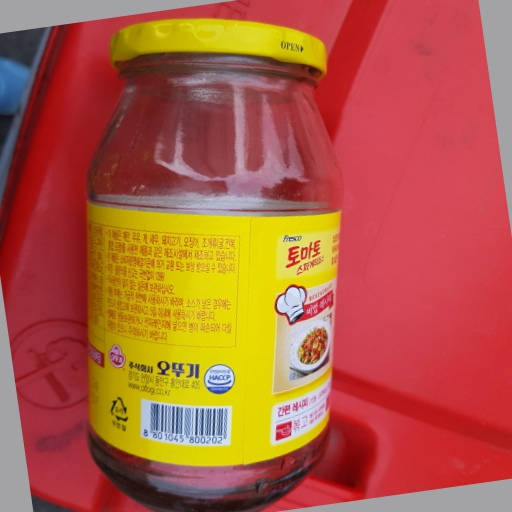Glass_5: (80, 19, 345, 512)
